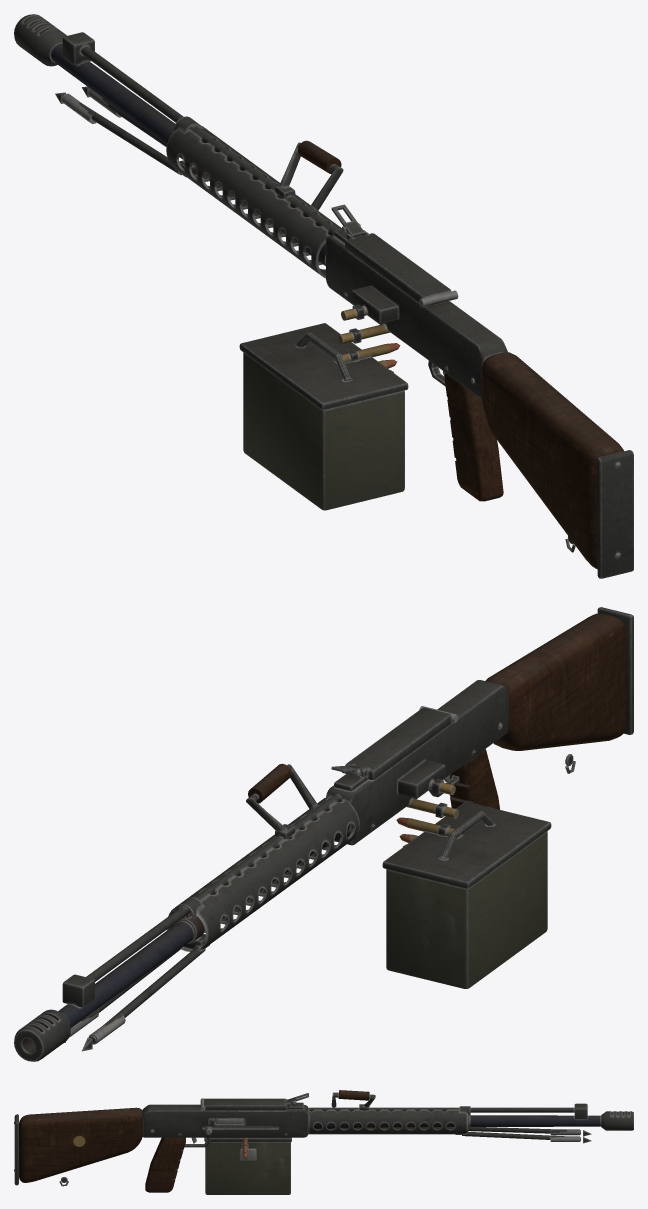
Rendered from auto_rifle_mg.glb.
3 renders of one model, top to bottom at view 1: azimuth 30°, elevation 25°; view 2: azimuth 150°, elevation 25°; view 3: azimuth 270°, elevation 25°, orthographic. The views are drawn at different scales.
Visible parts, largest first — view 1: auto_rifle_mg; view 2: auto_rifle_mg; view 3: auto_rifle_mg.
Boxes of the visible parts, left/top/right/bottom form: auto_rifle_mg: left=14, top=14, right=633, bottom=578; auto_rifle_mg: left=14, top=607, right=633, bottom=1061; auto_rifle_mg: left=14, top=1090, right=633, bottom=1194.
Bounding box in the file's own units: 0.177 × 0.2612 × 1.23.
1 material, 1 textured.
